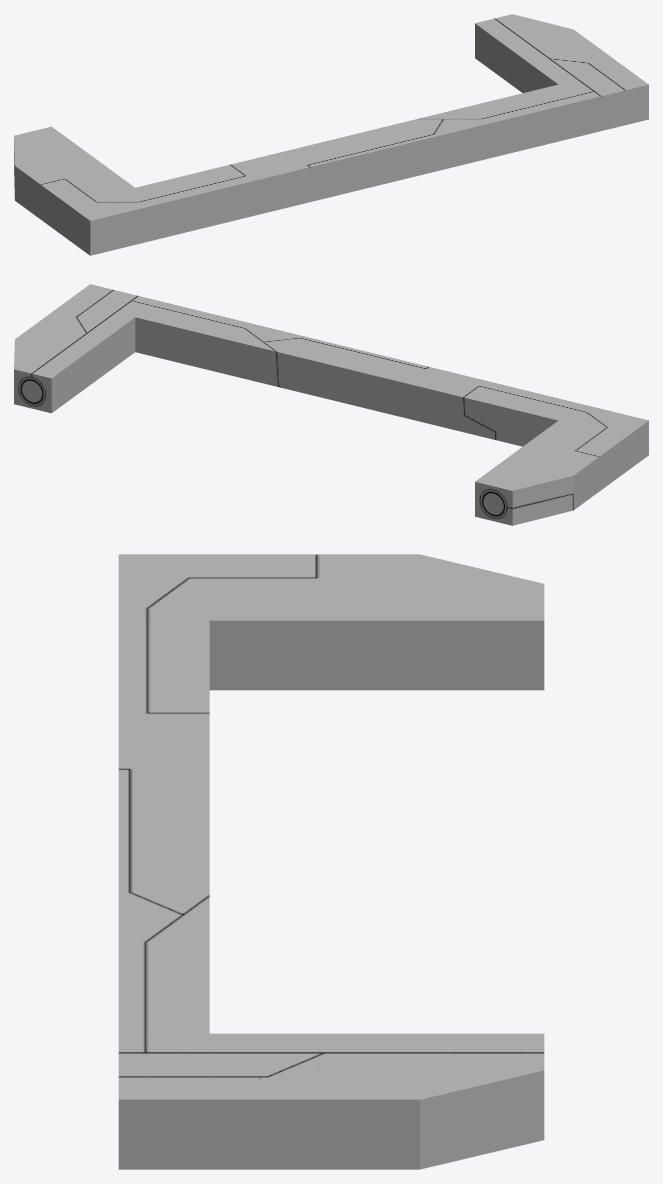
The model's file is ruk2.fbx.
3 renders of one model, top to bottom at view 1: azimuth 30°, elevation 25°; view 2: azimuth 150°, elevation 25°; view 3: azimuth 270°, elevation 25°, orthographic. The views are drawn at different scales.
Visible parts, largest first — view 1: pCube3; view 2: pCube3; view 3: pCube3.
Part boxes in pixels (<box>): pCube3: <box>14,14,648,255</box>; pCube3: <box>14,284,648,525</box>; pCube3: <box>118,554,544,1169</box>.
Size of the model in its own units: 3.52 by 0.21 by 1.16.
1 material, 1 textured.
